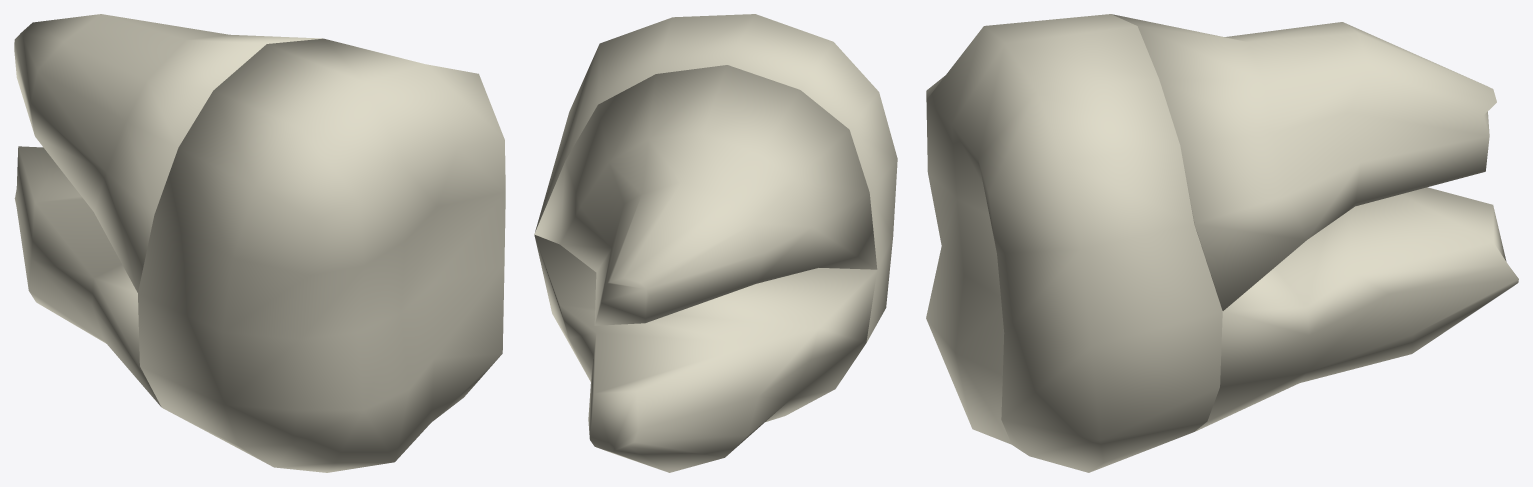
File: ToothPrefab.fbx
The picture shows the model from 3 angles, left to right: view 1: azimuth 30°, elevation 25°; view 2: azimuth 150°, elevation 25°; view 3: azimuth 270°, elevation 25°; orthographic projection. The views are drawn at different scales.
Visible parts, largest first — view 1: Crown, Root2, Root1; view 2: Root2, Root1, Crown; view 3: Crown, Root2, Root1.
Boxes of the visible parts, x1=… form: Crown: x1=138, y1=38, x2=505, y2=472; Root2: x1=14, y1=14, x2=322, y2=292; Root1: x1=14, y1=146, x2=161, y2=406; Root2: x1=534, y1=65, x2=877, y2=325; Root1: x1=534, y1=234, x2=877, y2=472; Crown: x1=535, y1=14, x2=897, y2=342; Crown: x1=926, y1=14, x2=1222, y2=472; Root2: x1=1111, y1=14, x2=1496, y2=310; Root1: x1=1195, y1=187, x2=1518, y2=431.
Bounding box in the file's own units: 1.26 × 1.36 × 1.75.
